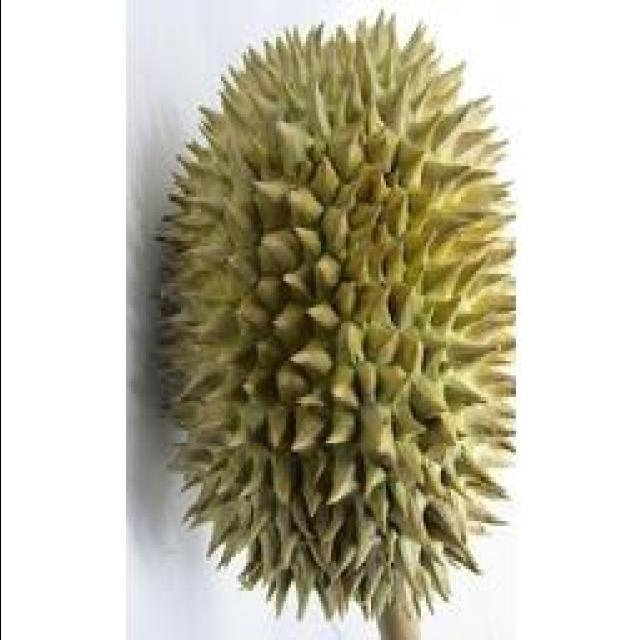agrume: (143, 8, 545, 637)
